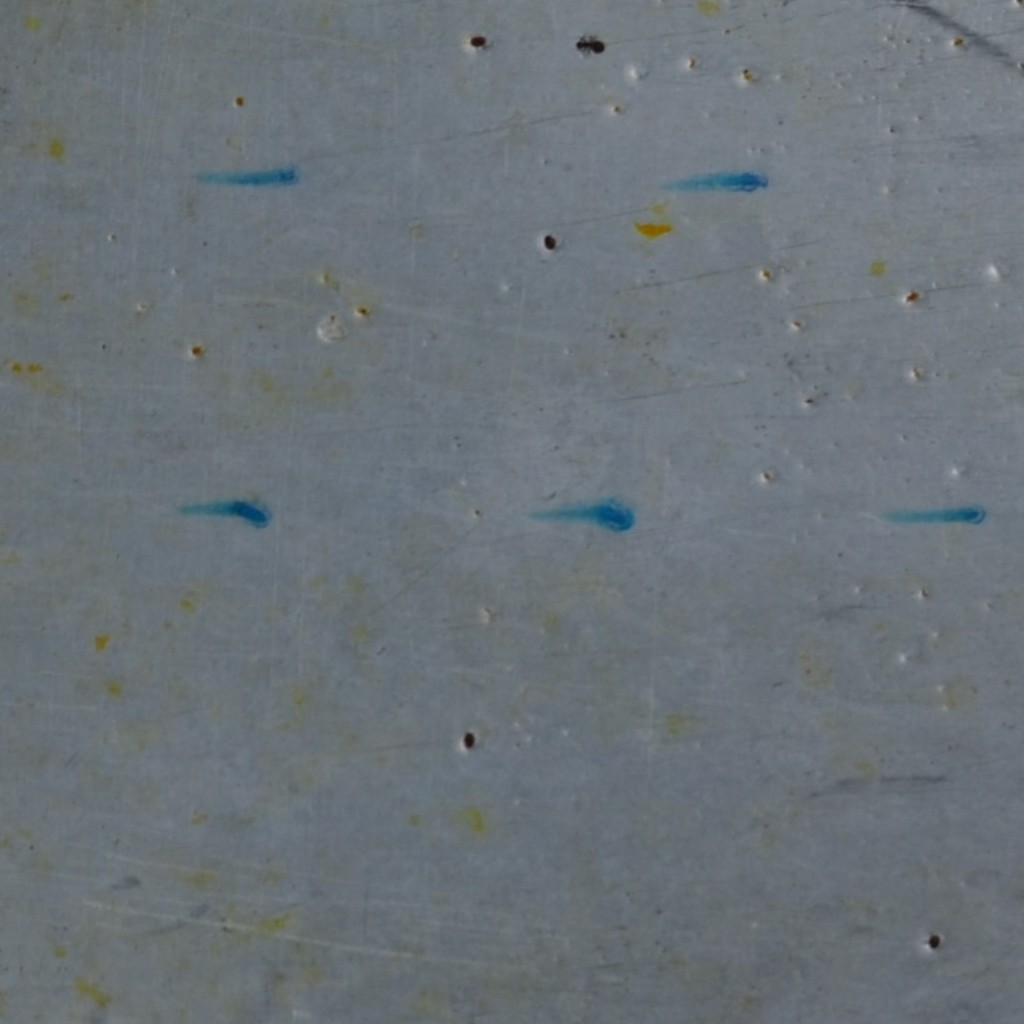varroa: (462, 728, 479, 754), (466, 32, 490, 49), (543, 229, 559, 253), (926, 927, 942, 951)
